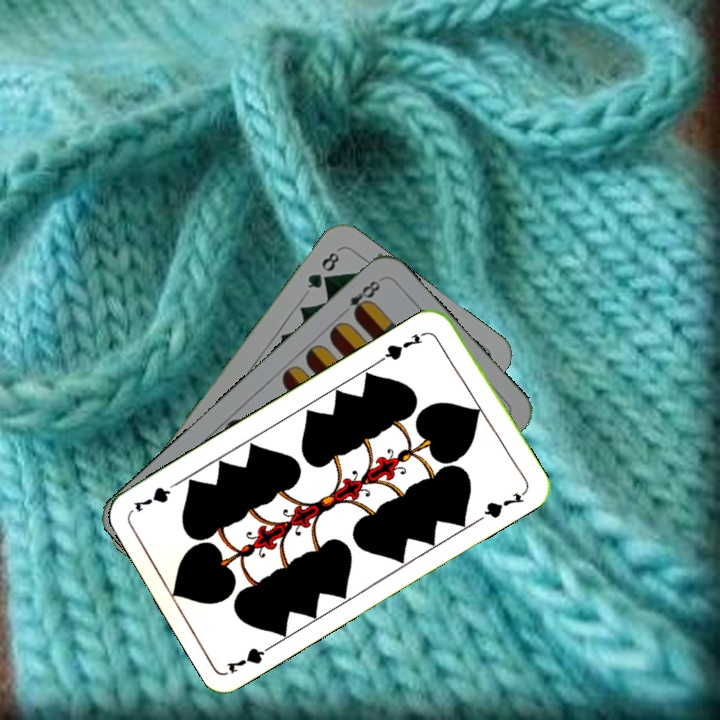E8: (336, 276, 383, 320)
G7: (222, 638, 280, 676), (377, 327, 431, 364)
G8: (303, 248, 342, 291)
